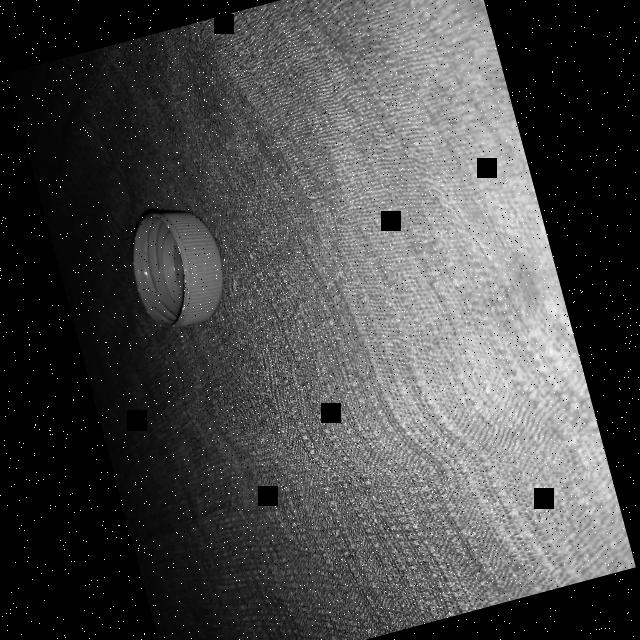plastic_bottle_cap: (117, 194, 237, 336)
